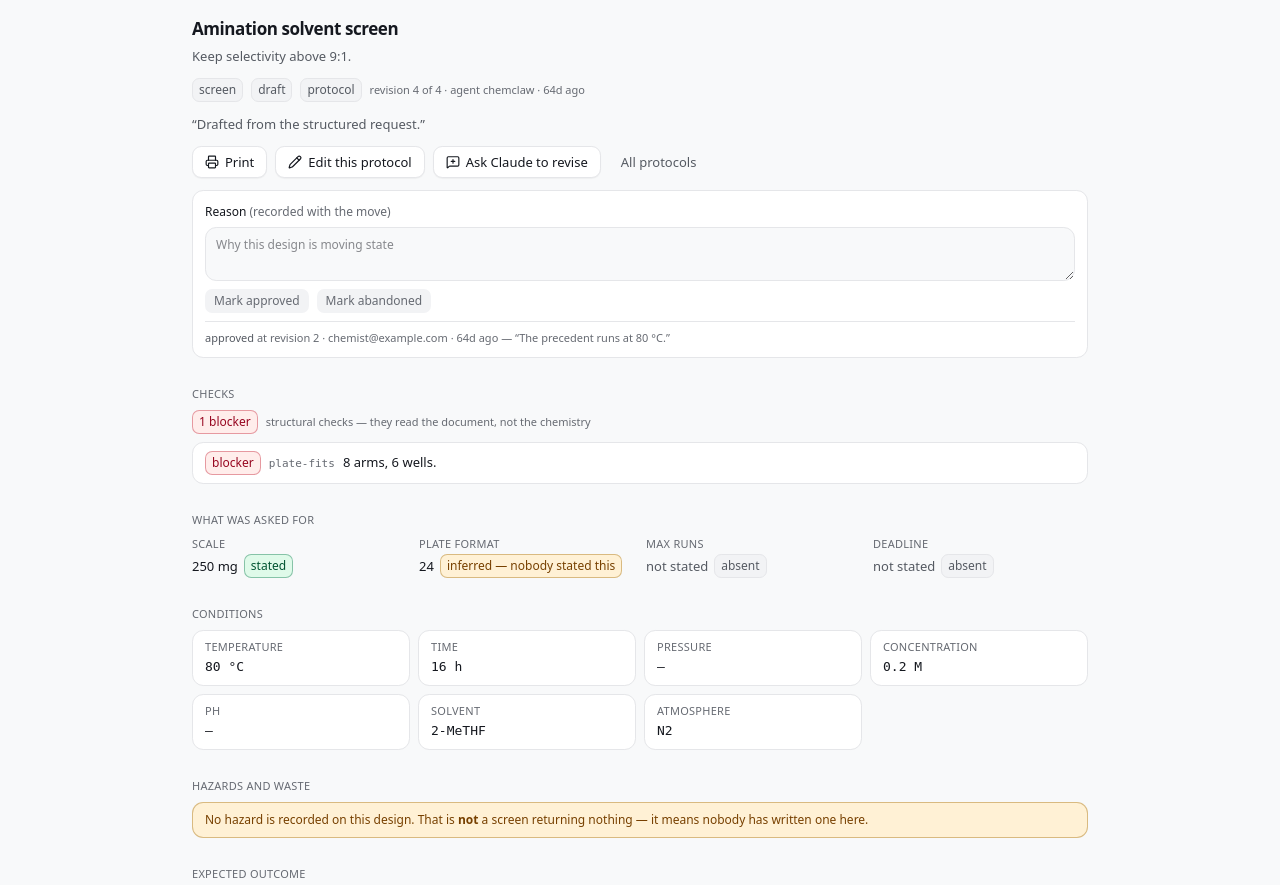
Test: ProtocolDocument › reports a decision that already happened as an alert, and does not blame a colleague
The width and height of the screenshot is (1280, 885).
Type "looks fine to me" into the text box with placeholder "Why this design is moving state" at (640, 254), box [205,226,1075,280]
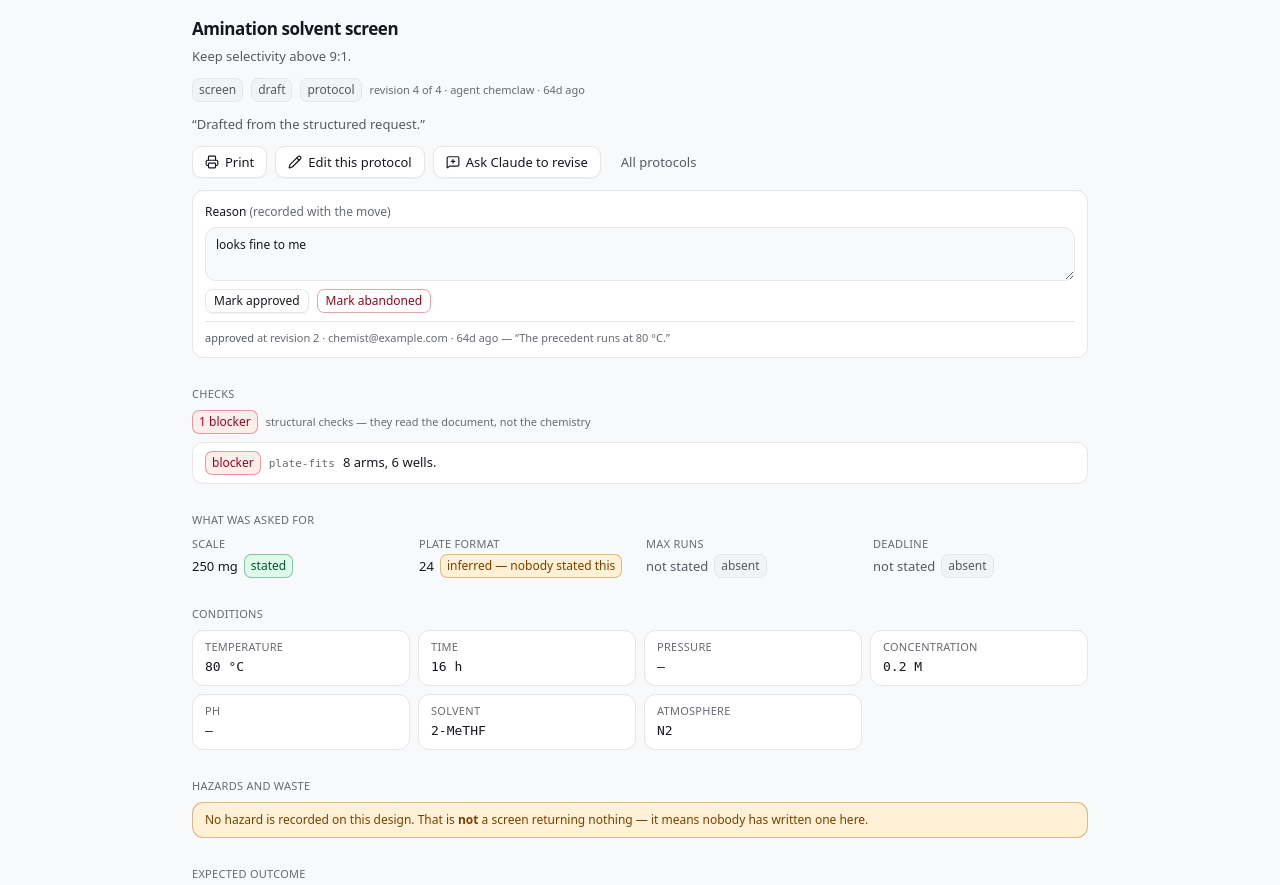
Click the button "Mark approved" at (257, 300), box [205,288,309,312]
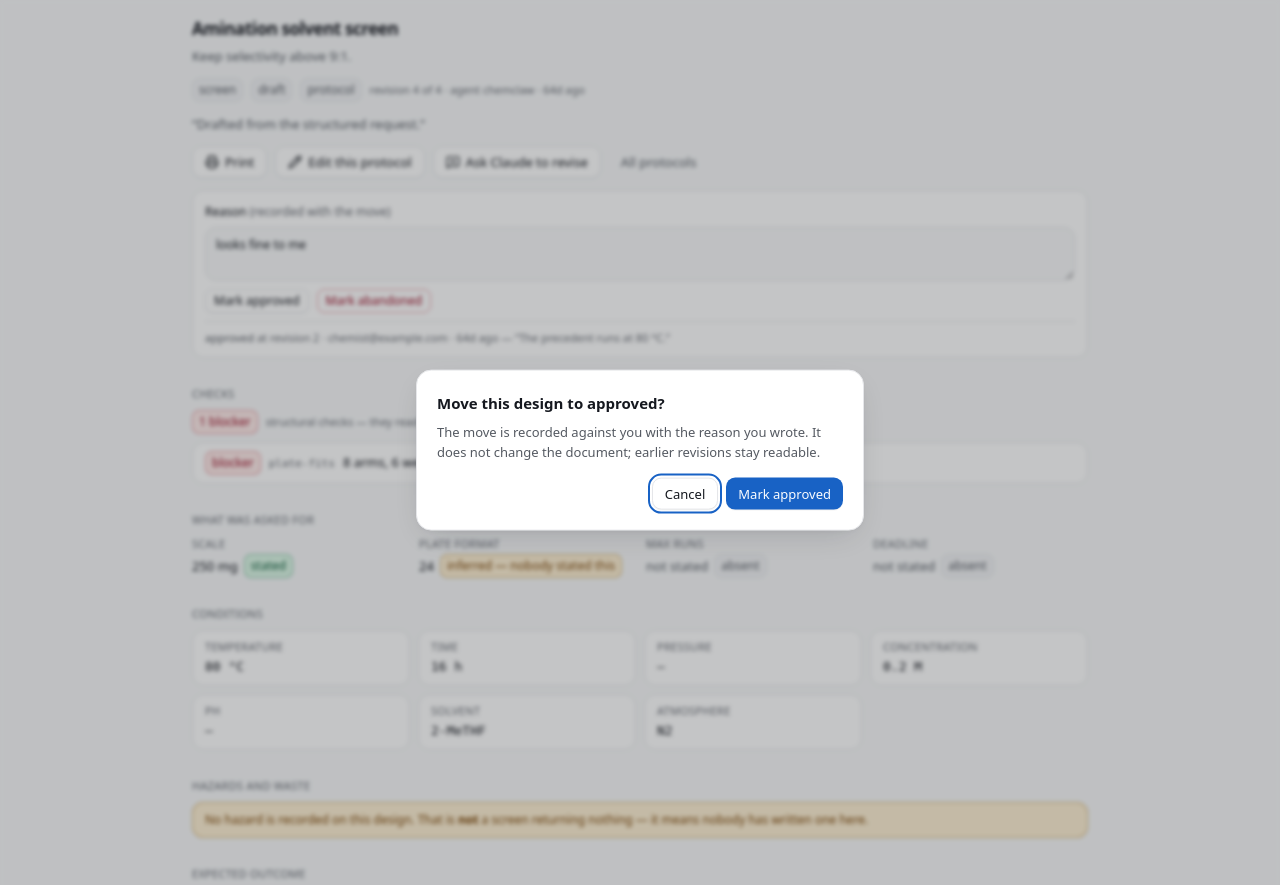
Click the button "Mark approved" at (785, 493), box [726,477,843,509]
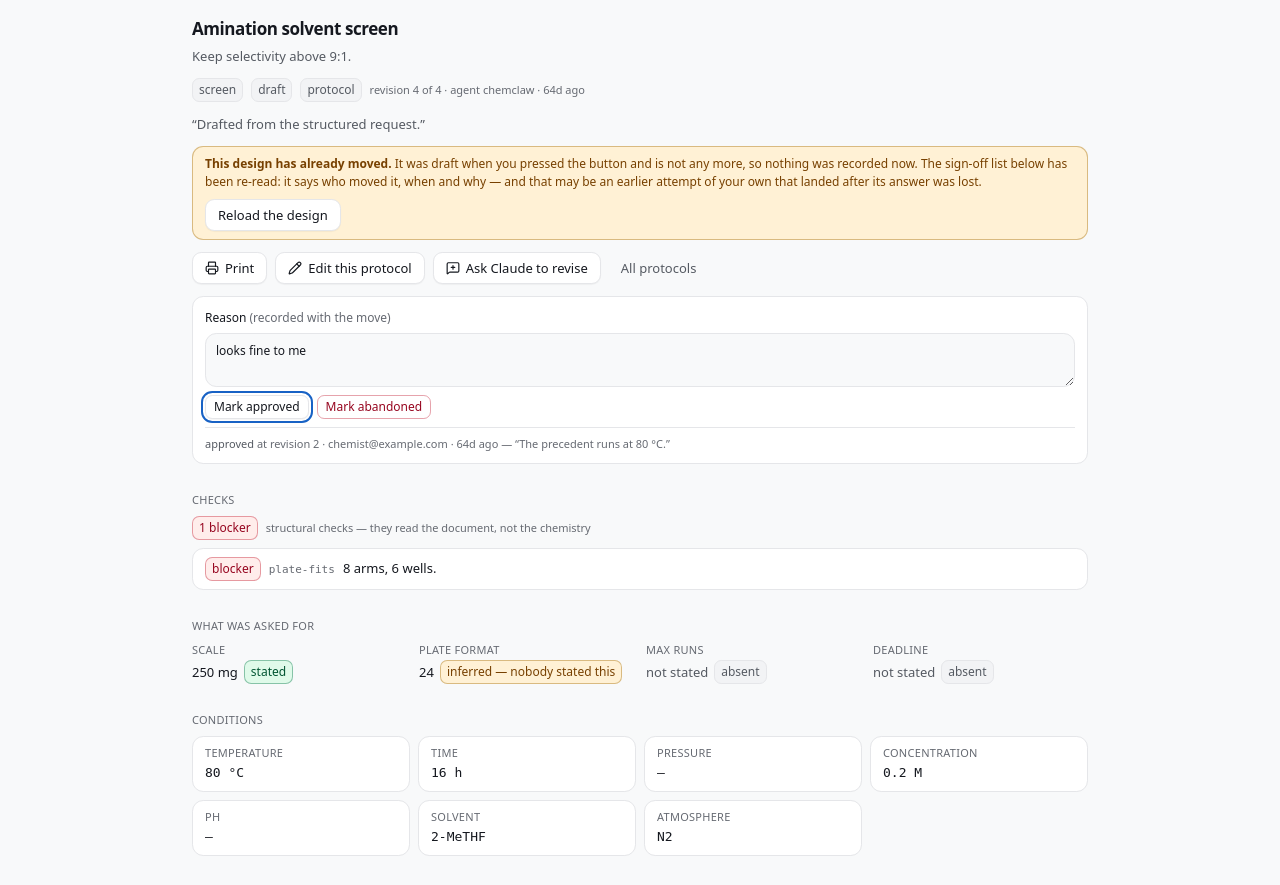
Expected: the message shows "This design has already moved", [205,154,392,172]
Expected: the message shows "It was draft when you pressed the button", [192,146,1088,240]
Expected: the button "Reload the design" is shown, [205,198,341,230]
